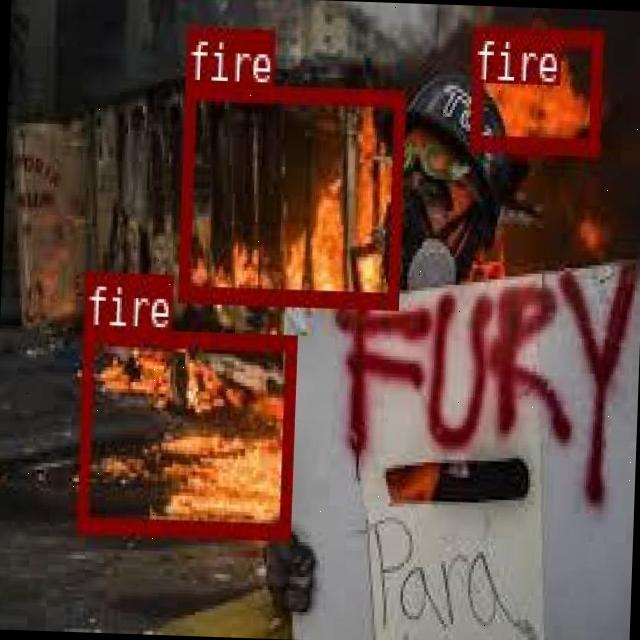fire: (176, 81, 402, 306), (75, 327, 292, 534), (468, 24, 599, 152)
